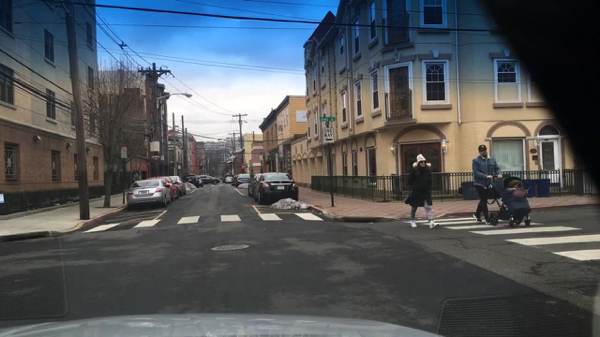car: (254, 170, 298, 204), (126, 179, 171, 207), (147, 176, 180, 201), (169, 174, 188, 195), (247, 176, 261, 196), (183, 174, 204, 187), (198, 175, 220, 185), (235, 175, 251, 186), (233, 174, 240, 184), (226, 176, 233, 184), (218, 175, 224, 182)
person: (404, 154, 439, 230), (469, 144, 501, 223), (505, 181, 525, 211)
traffic sign: (323, 128, 332, 144), (319, 116, 335, 123), (241, 165, 247, 169)
